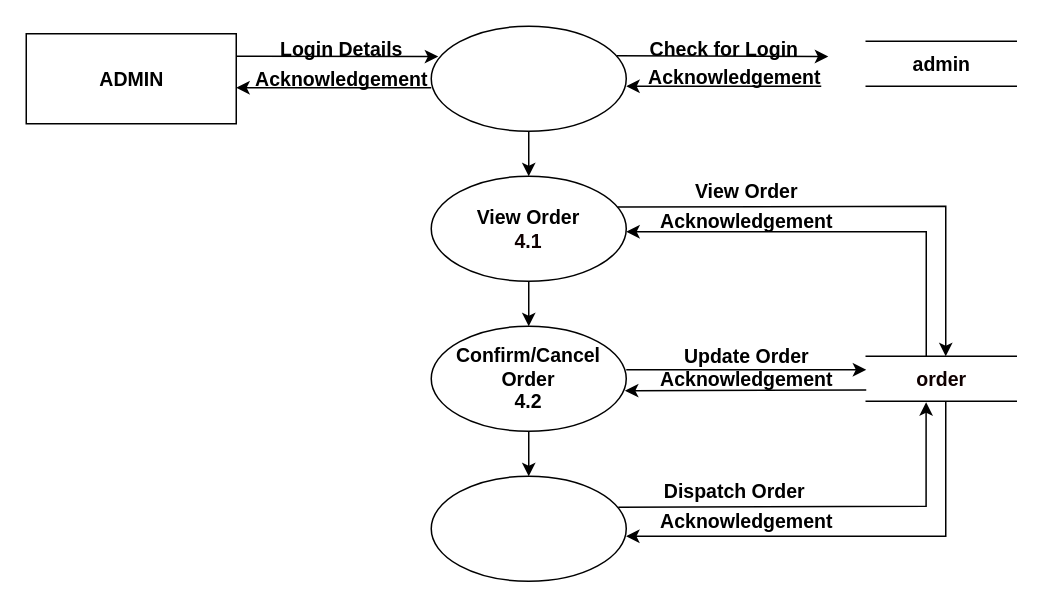
The diagram is 1043 pixels wide and 608 high, and some of its shapes have lost their labels. The shapes that lost their labels are listed below. From the top down, each one's box as (x1, y1, x2, y2) in pixels, then its label:
(430, 25, 626, 131): Login 4.0
(430, 475, 626, 581): Dispatch Order 4.3
